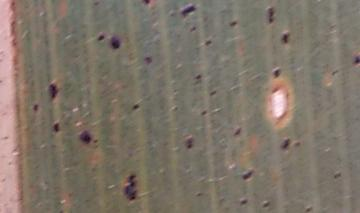tarspot: (123, 172, 139, 201), (47, 80, 61, 105), (77, 130, 94, 147), (180, 4, 196, 19), (265, 6, 276, 26), (280, 134, 292, 152), (109, 36, 121, 51), (280, 30, 290, 47), (206, 87, 221, 98), (241, 169, 254, 181), (51, 121, 62, 135), (184, 137, 195, 151), (331, 170, 344, 181), (141, 55, 155, 65), (272, 66, 282, 80), (192, 70, 202, 84), (95, 31, 106, 43), (232, 126, 243, 138), (31, 101, 41, 114), (194, 188, 204, 201), (198, 108, 209, 119), (187, 23, 198, 34), (89, 1, 104, 9), (260, 200, 273, 209), (352, 54, 360, 68), (292, 140, 306, 148), (203, 38, 213, 49), (226, 19, 239, 27), (238, 198, 251, 206), (130, 102, 141, 111), (141, 1, 154, 8), (304, 204, 314, 213)
